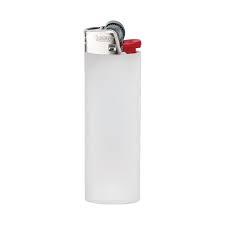lighter: (84, 20, 141, 205)
